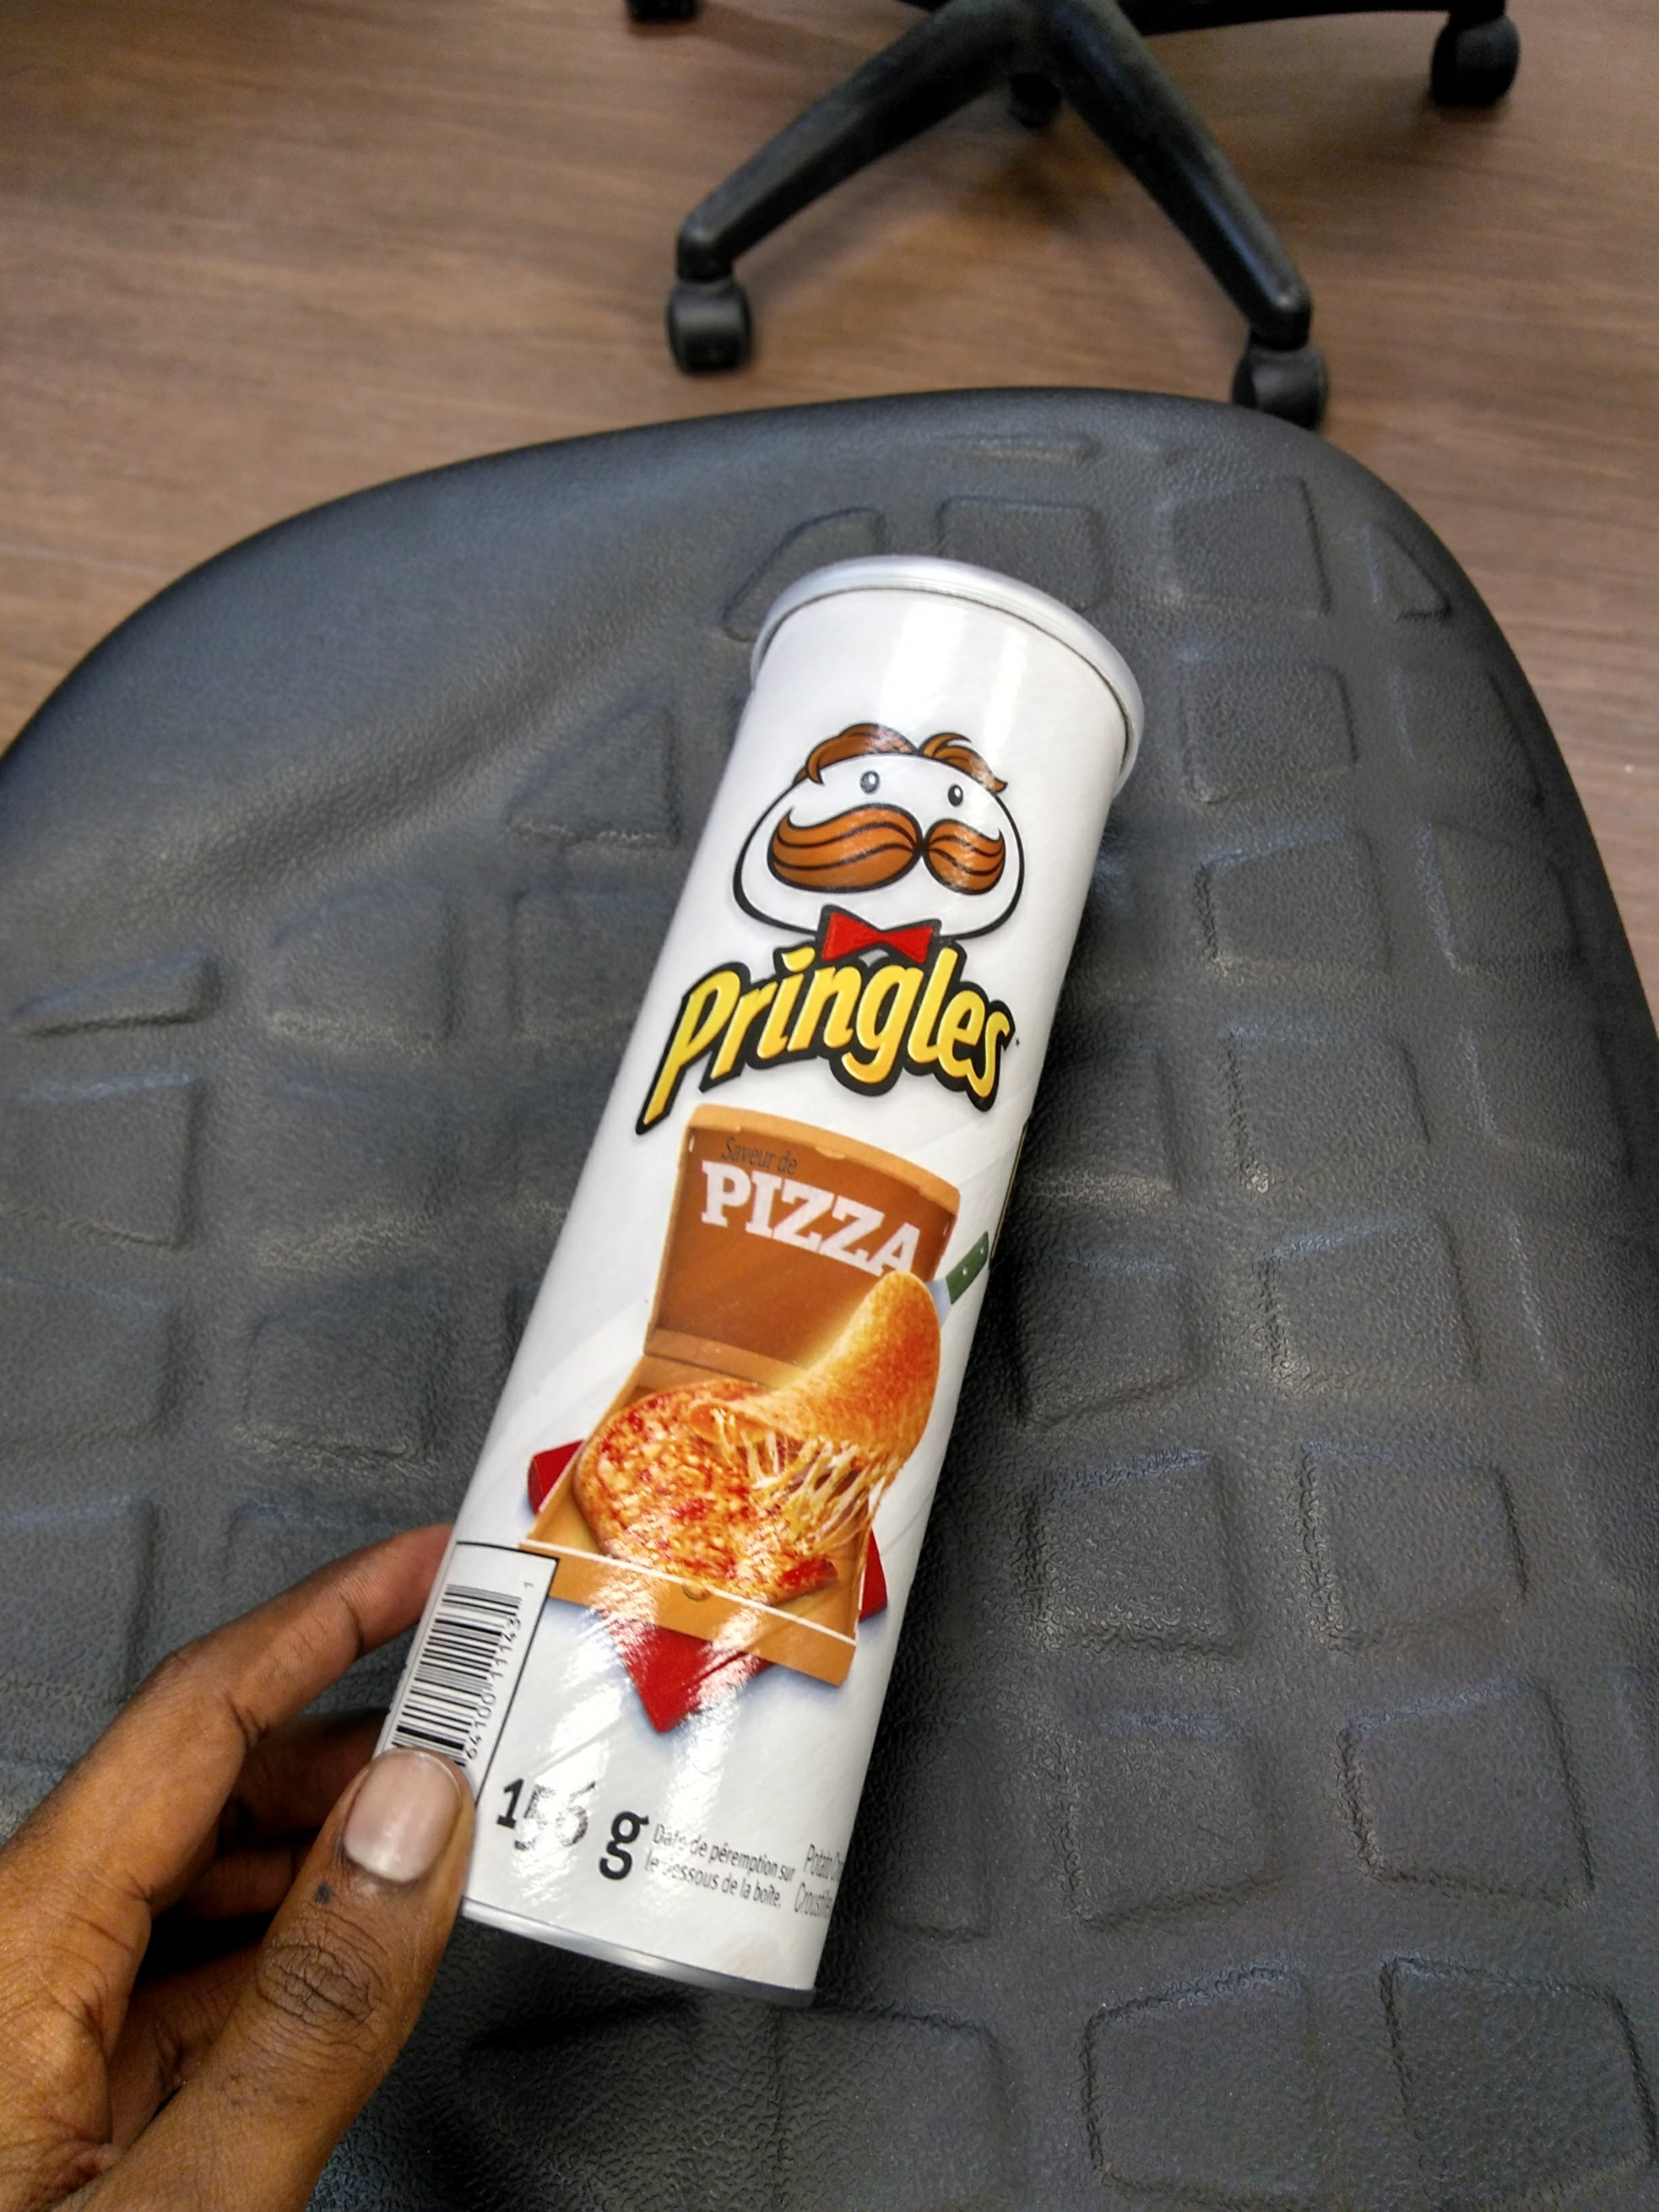pringles: (329, 503, 1194, 2005)
